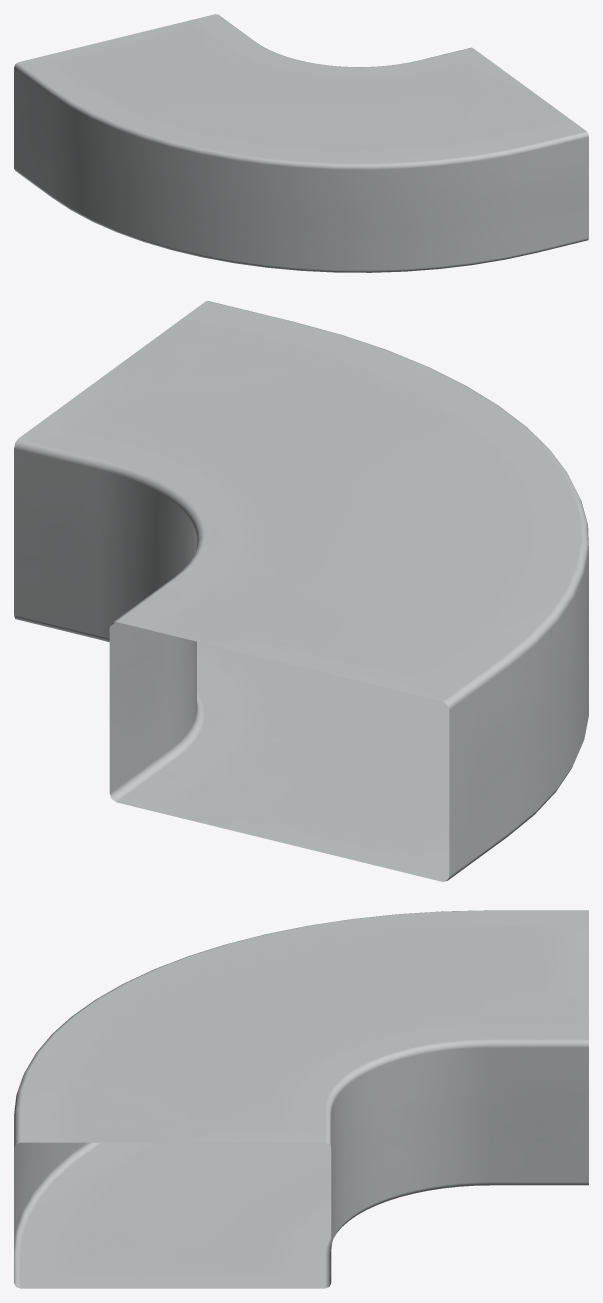
Rendered from bend_90.gltf.
3 renders of one model, top to bottom at view 1: azimuth 30°, elevation 25°; view 2: azimuth 150°, elevation 25°; view 3: azimuth 270°, elevation 25°, orthographic. The views are drawn at different scales.
Visible parts, largest first — view 1: bend_90; view 2: bend_90; view 3: bend_90.
Boxes of the visible parts, bbox=[...] form: bend_90: bbox=[14, 14, 588, 272]; bend_90: bbox=[14, 301, 588, 881]; bend_90: bbox=[14, 910, 588, 1288].
Size of the model in its own units: 1.32 by 0.384 by 1.37.
1 material, 1 textured.
